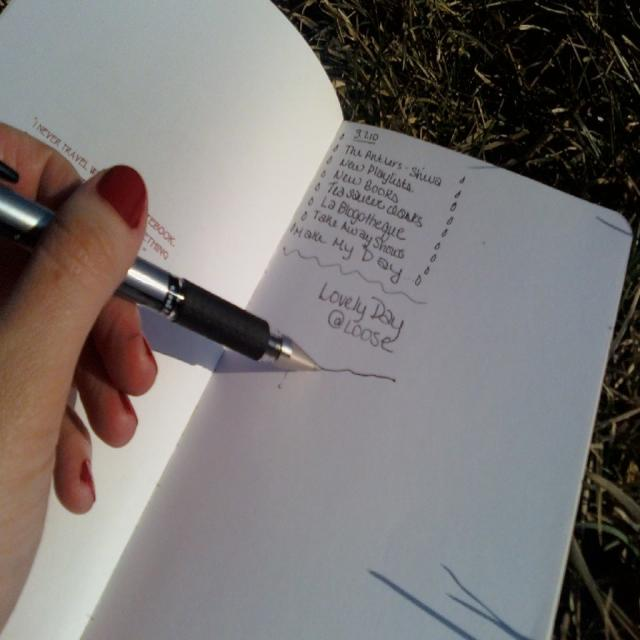pen: (0, 157, 326, 372)
